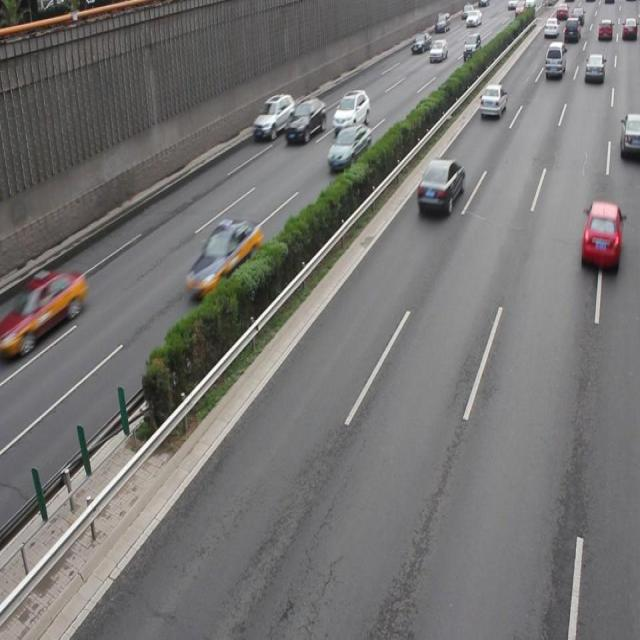car: (0, 267, 86, 352), (184, 220, 262, 300), (578, 199, 621, 273), (415, 156, 465, 217), (328, 124, 372, 172), (284, 96, 326, 146), (252, 92, 294, 139), (333, 90, 370, 133), (618, 113, 640, 158)
